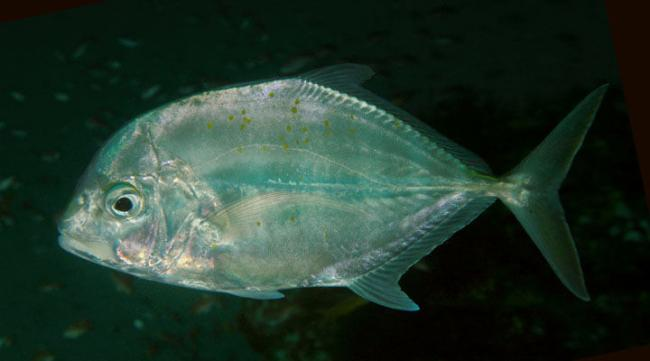fish: (58, 62, 609, 311)
